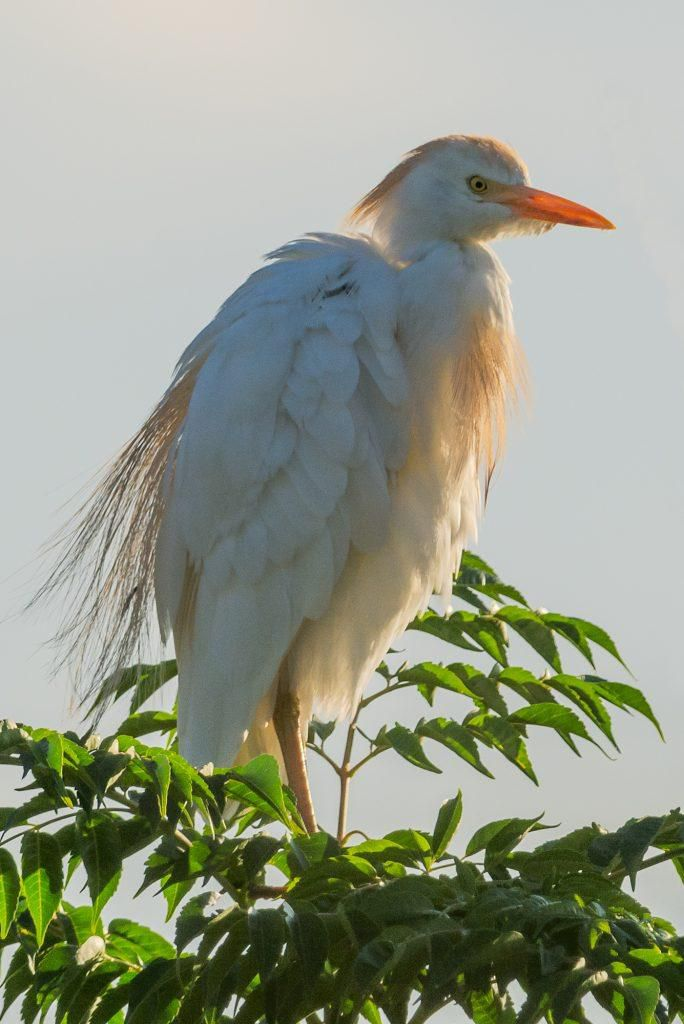bird: (37, 59, 629, 935)
